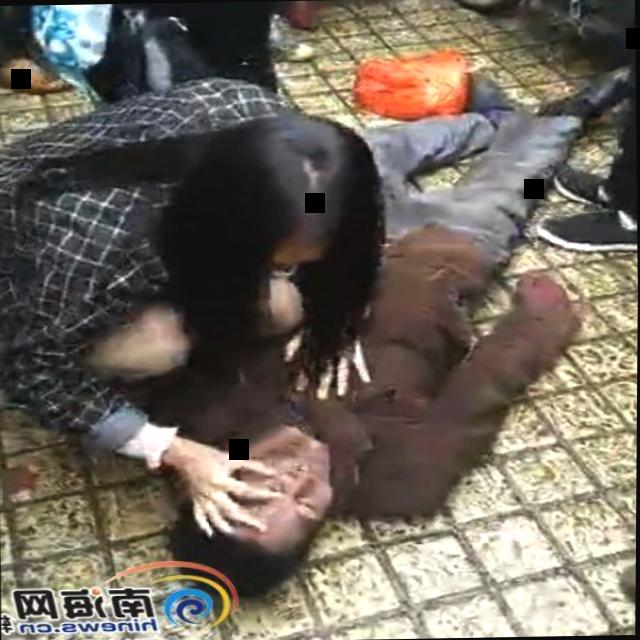Fall-Detected: (210, 48, 608, 576)
